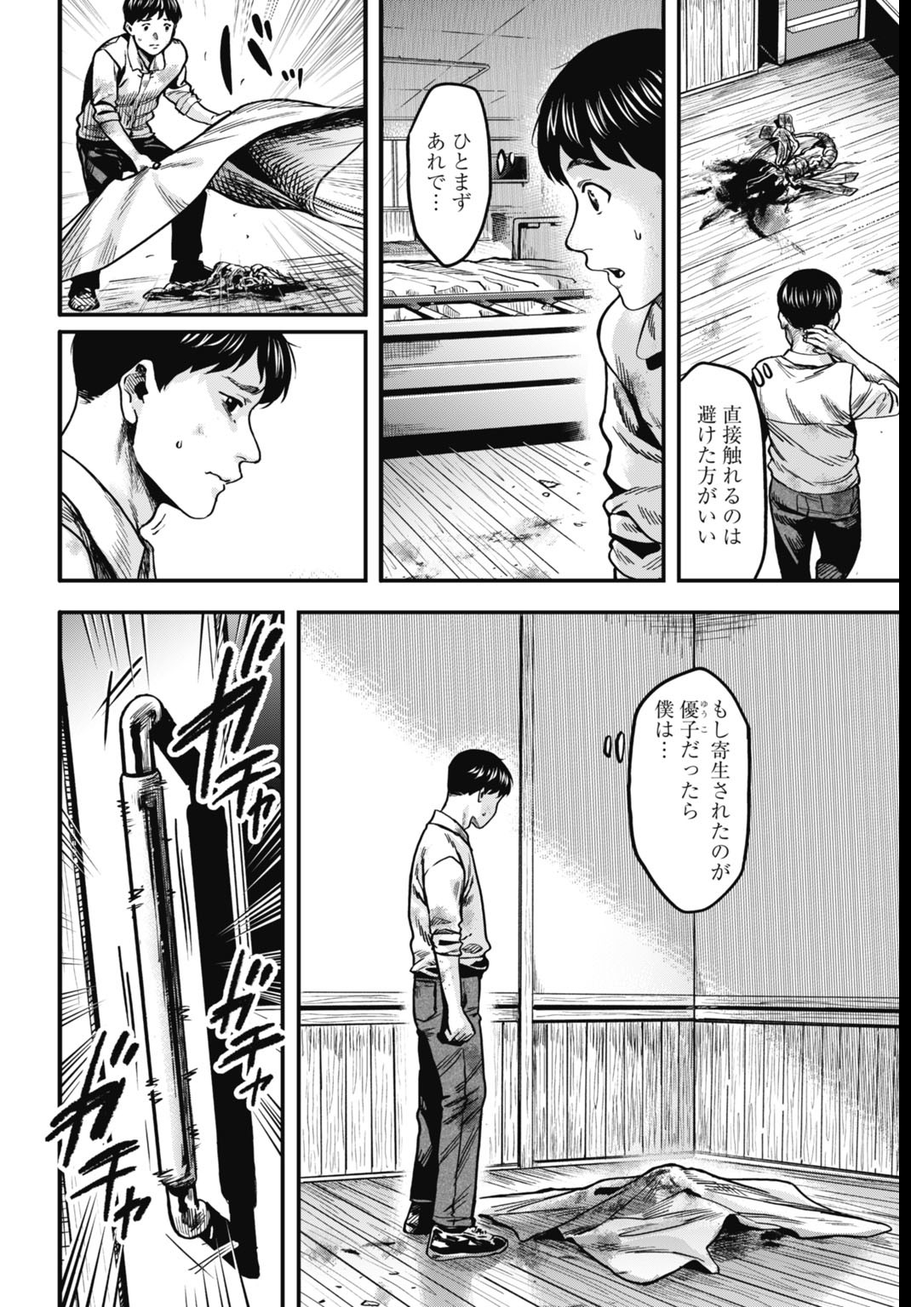bubbles: (595, 662, 761, 917), (679, 354, 774, 579), (398, 74, 502, 275)
